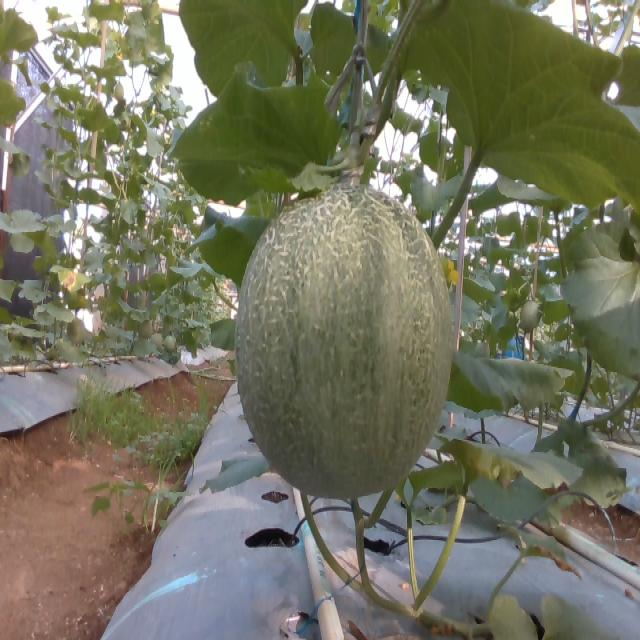melon: (236, 185, 453, 499)
